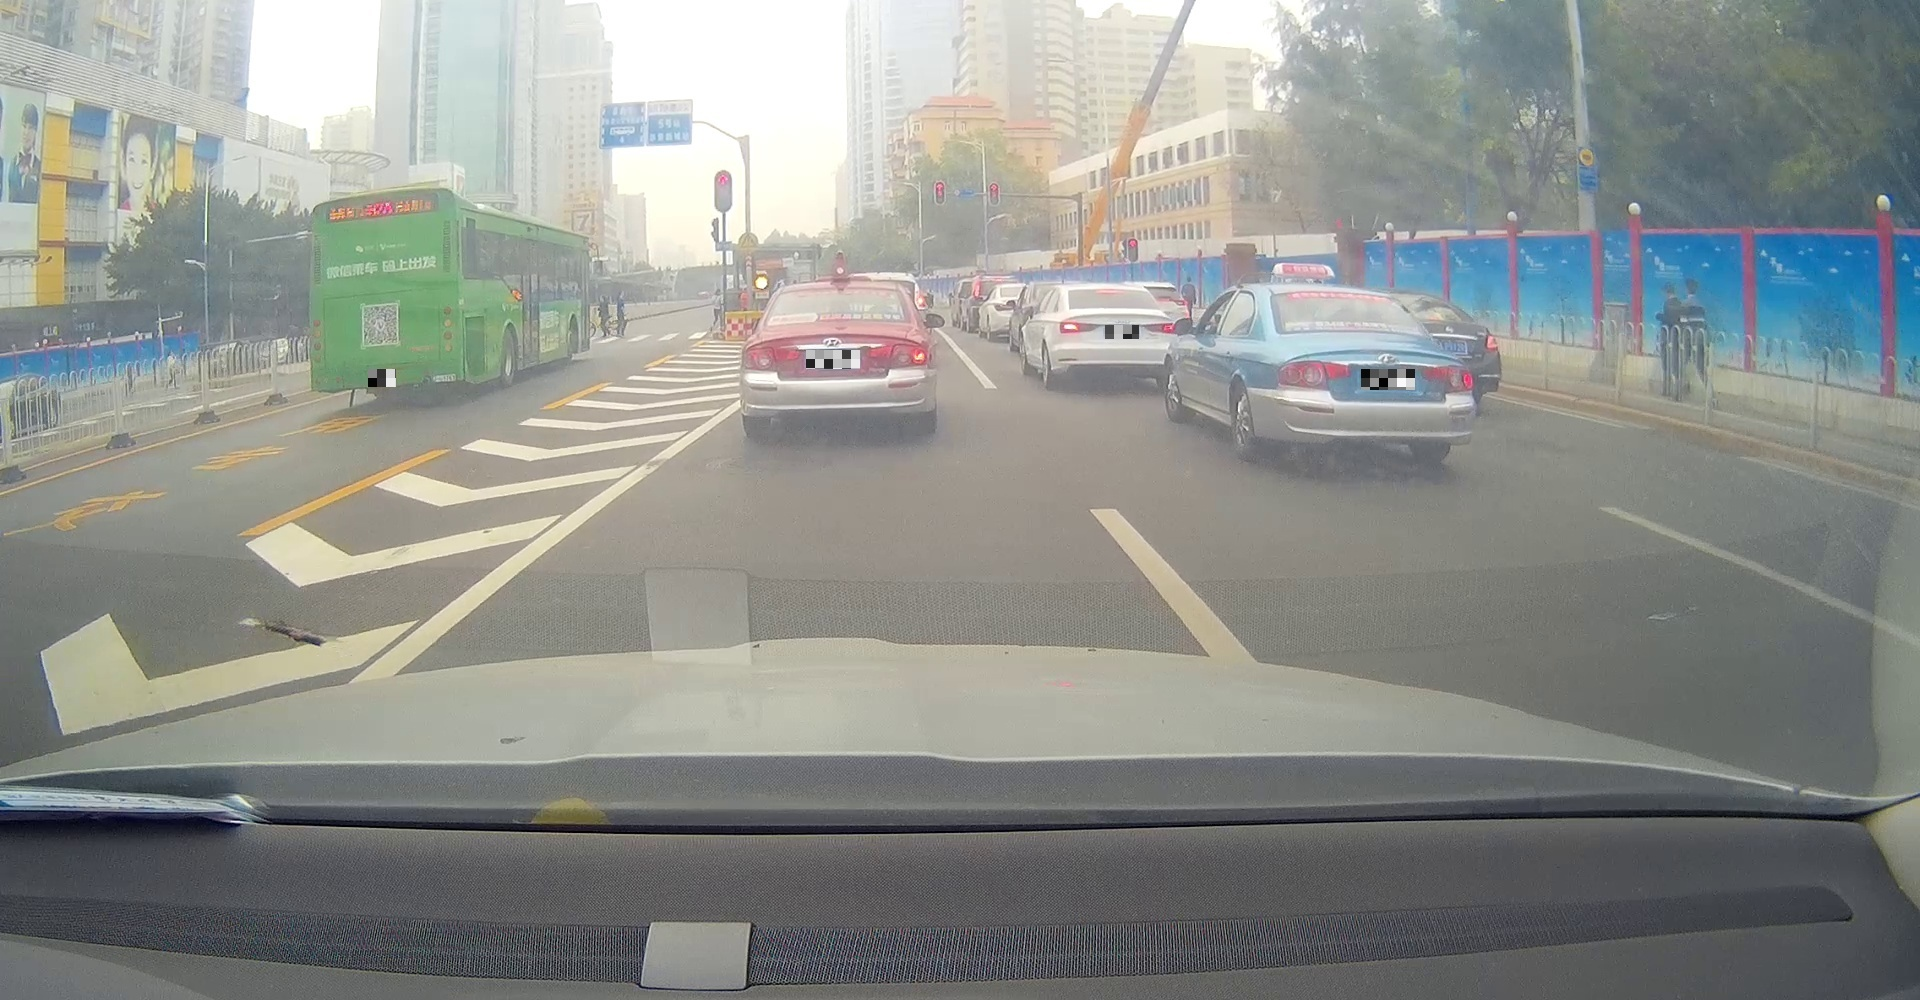L_light: (1277, 360, 1328, 392), (744, 346, 777, 371), (1059, 320, 1098, 332), (312, 319, 323, 363)
R_light: (889, 343, 930, 368), (1445, 365, 1473, 393), (442, 305, 453, 352), (1144, 321, 1175, 334)
T_light: (366, 195, 392, 202), (1345, 326, 1377, 331), (820, 315, 851, 320), (1097, 291, 1123, 294)
day-brake: (1270, 283, 1476, 463), (740, 280, 935, 437), (1057, 283, 1177, 391)
day-no: (309, 187, 463, 404)
plate_1: (368, 369, 396, 387)
plate_2: (806, 350, 860, 369)
plate_3: (1105, 325, 1139, 339)
plate_4: (1361, 369, 1415, 390)
